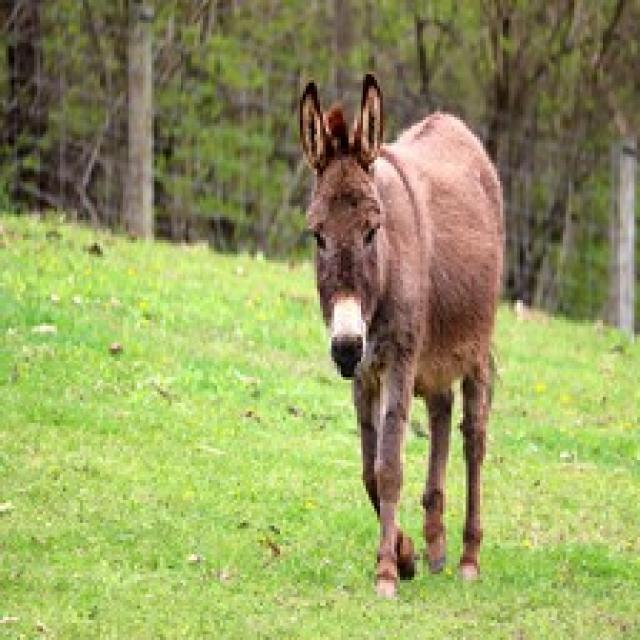Donkey: (294, 71, 506, 600)
